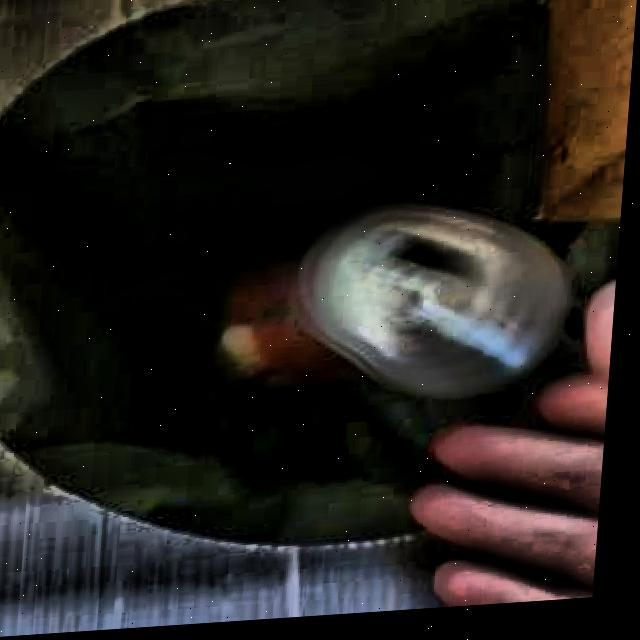metal: (304, 213, 573, 404)
